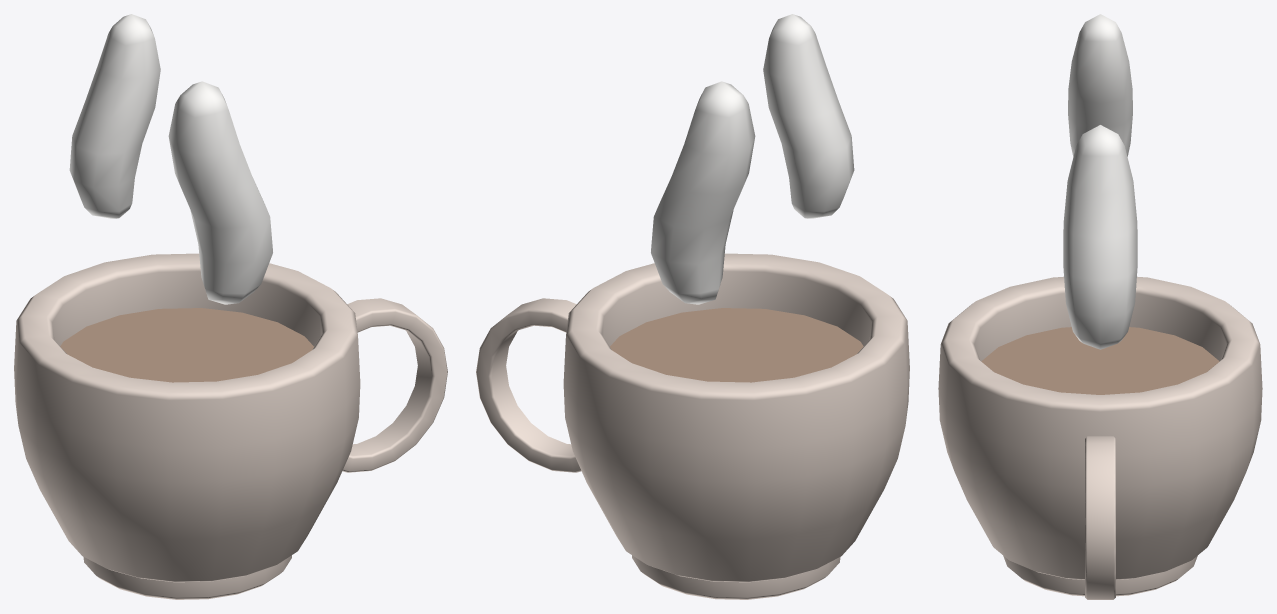
File: Cup_2.glb
3 renders of one model, left to right at view 1: azimuth 30°, elevation 25°; view 2: azimuth 150°, elevation 25°; view 3: azimuth 270°, elevation 25°, orthographic. The views are drawn at different scales.
Parts seen in each view (by area): view 1: Cup_2; view 2: Cup_2; view 3: Cup_2.
Boxes of the visible parts, x1,y1,x2,y2 form: Cup_2: (14, 14, 447, 599); Cup_2: (476, 14, 909, 599); Cup_2: (938, 14, 1262, 599).
Bounding box in the file's own units: 0.2614 × 0.3442 × 0.1949.
1 material, 1 textured.
